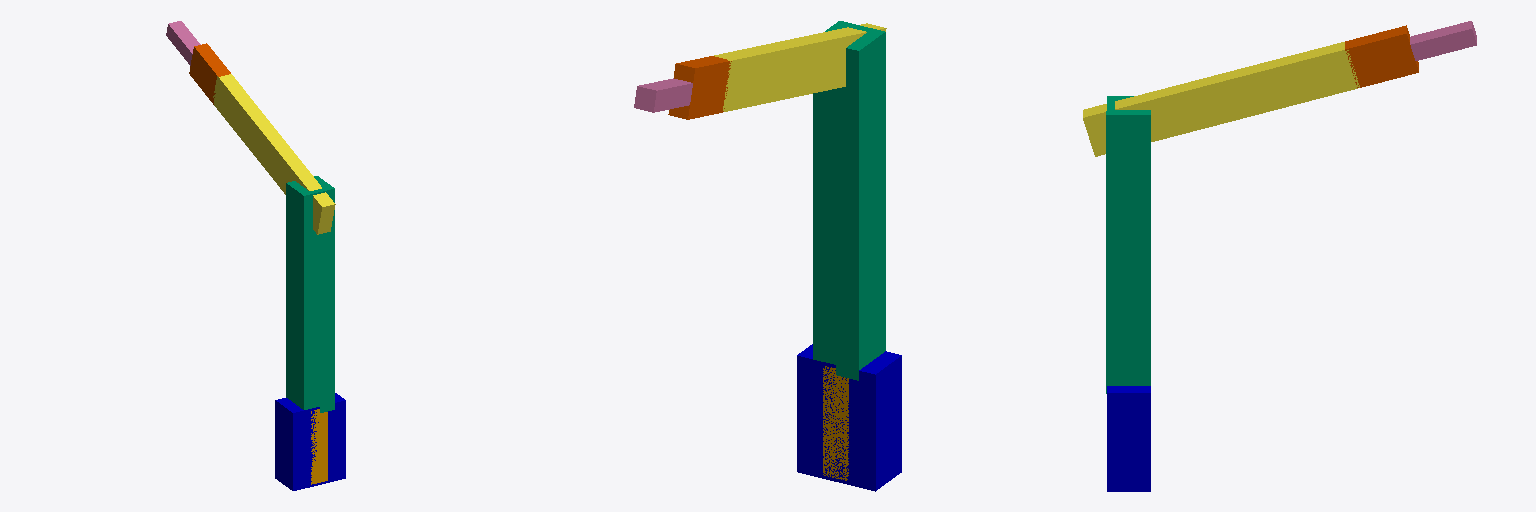
URDF robot description (multipleshapes):
<?xml version="1.0"?>
<robot name="multipleshapes">

  <link name="bl">
    <visual>
      <geometry>
        <box size ="0.04 0.07 0.16"/>
        <origin rpy ="0 0 0" xyz = "0 0 0"/>
      </geometry>
    </visual>
  </link>

  <link name = "base_link">
   <visual>
    <geometry>
     <box size ="0.12 0.07 0.17"/>
    </geometry>
    <origin rpy ="0 0 0" xyz = "0 0 0"/>
     <material name="blue">
        <color rgba="0 0 0.8 1"/>
     </material>
     </visual>
  </link>


  <joint name="joint0" type="continuous">
   <axis xyz = "0 0 1"/>
    <limit effort="1000.0" lower="-3" upper="3" velocity="0.5"/>
   <origin rpy ="0 0 0" xyz = "0 0 0"/>
   <parent link = "base_link"/>
   <child link = "bl"/>
  </joint>

  <link name="link1">
    <visual>
      <geometry>
	<box size="0.07 0.07 0.48"/>
     <!--   <box size="0.07 0.07 0.31"/>    -.2-->
      </geometry>
	<origin rpy="0 0 1.57" xyz="0 0.0 0.22"/>
    </visual>
  </link>

  <joint name="joint1" type="revolute">
    <axis xyz = "1 0 0"/>
    <limit effort="1000.0" lower="-1.727" upper="1.57" velocity="0.25"/>
    <origin rpy ="0.0 0. 0" xyz ="0 0 0.09"/>
    <parent link="bl"/>
    <child link="link1"/>
  </joint>

  <link name = "link2">
   <visual>
     <geometry>
       <box size = "0.03 0.43 0.07"/>
     </geometry>
	<origin rpy= "0 0 0" xyz="0 0.15 0"/>
   </visual>
  </link>

<link name="link_virtual">
<origin rpy= "0 0 0" xyz="0 0.15 0"/>
</link>

  <joint name ="joint2" type="revolute">
   <axis xyz = "1 0 0 "/>
    <limit effort="1000.0" lower="-2.6" upper="2.6" velocity="0.25"/>
   <origin rpy ="0.28 0 0" xyz = "0 0.0 0.43"/>
   <parent link ="link1"/>
   <child link = "link_virtual"/>
  </joint>

<joint name ="joint3" type="revolute">
   <axis xyz = "0 1 0 "/>
    <limit effort="1000.0" lower="-3.61" upper="3.61" velocity="0.25"/>
   <origin rpy ="0 0 0" xyz = "0 0.0 0.0"/>
   <parent link ="link_virtual"/>
   <child link = "link2"/>
  </joint>

  <link name = "link3">
   <visual>
     <geometry>
       <box size = "0.03 0.1 0.07"/>
     </geometry>
	<origin rpy= "0 0 0" xyz="0 0.03 0.0"/>
   </visual>
    <!--collision>
     <geometry>
       <box size = "0.03 0.1 0.07"/>
     </geometry>
	<origin rpy= "0 0 0" xyz="0 0.03 0.0"/>
    </collision-->
  </link>

  <joint name ="joint4" type="revolute">
   <axis xyz = "1 0 0 "/>
    <limit effort="1000.0" lower="-1.64" upper="1.64" velocity="0.25"/>
   <origin rpy ="0 0 0" xyz = "0 0.38 0.0"/>
   <parent link ="link2"/>
   <child link = "link3"/>
  </joint>

  <link name = "link4">
   <visual>
     <geometry>
       <box size = "0.03 0.1 0.03"/>
     </geometry>
	<origin rpy= "0 0 0" xyz="0 0.03 0.0"/>
   </visual>
    <!--collision>
     <geometry>
       <box size = "0.03 0.1 0.03"/>
     </geometry>
	<origin rpy= "0 0 0" xyz="0 0.03 0.0"/>
    </collision-->
  </link>

  <joint name ="joint5" type="revolute">
   <axis xyz = "0 1 0 "/>
    <limit effort="1000.0" lower="-2.44" upper="2.44" velocity="0.25"/>
   <origin rpy ="0 0 0" xyz = "0 0.1 0.0"/>
   <parent link ="link3"/>
   <child link = "link4"/>
  </joint>



  <!--link name = "gripper_link">
   <visual>
     <geometry>
       <box size = "0.03 0.06 0.03"/>
     </geometry>
	<origin rpy= "0 0 0" xyz="0 0.05 0.0"/>
   </visual>
  </link>

  <joint name ="gripper" type="revolute">
   <axis xyz = "0 0 1 "/>
    <limit effort="1000.0" lower="-2.44" upper="2.44" velocity="0.25"/>
   <origin rpy ="0 0 0" xyz = "0 0.05 0.0"/>
   <parent link ="link4"/>
   <child link = "gripper_link"/>
  </joint-->







<!--link name="kinect_depth_HASHMARK_0">
<origin rpy= "0 0 0" xyz="0 0 0"/>
</link>

<joint name="kinect_joint#0" type="fixed">
    <parent link="link0"/>
    <child link="kinect_depth_HASHMARK_0"/>
    <origin rpy="1.57 0 3.14" xyz="-0.0143 0.0302 0.7448"/>
    <axis xyz="0 0 0" />
</joint-->


<link name="camera_link">
<origin rpy= "0 0 0" xyz="0 0 0"/>
</link>
<joint name="kinect_joint1" type="fixed">
    <parent link="base_link"/>
    <child link="camera_link"/>
    <origin rpy="1.57079632679 0 3.14159265359" xyz="0.10 -0.1 0.48"/>
    <axis xyz="0 0 0" />
</joint>


    <!--origin rpy="0 0 0" xyz="-0.035 0.3 0.02"/-->





<!--link name="kinect_depth_HASHMARK_0">
<origin rpy= "0 0 0" xyz="0 0.1 0"/>

</link>





<joint name="kinect_joint#0" type="fixed">
    <parent link="link4"/>
    <child link="kinect_depth_HASHMARK_0"/>
    <origin rpy="1.75 0 3.14" xyz="0.0 0.01 0"/>
    <axis xyz="0 0 0" />
    <limit effort="1000.0" lower="-3" upper="3" velocity="0.5"/>1.57 0 3.14159
</joint>-->

<Manipulator name="arm_kin_chain">
   <!-- tip -->
   <effector>link4</effector>
   <!-- origin -->
   <base>base_link</base>

   <!-- no additional info is required since it is a leg -->
</Manipulator>

</robot>

--- Facts derived from the render (not from the file) ---
Views: 3 orthographic renders of the robot side by side, from view 1: azimuth 30°, elevation 25°; view 2: azimuth 150°, elevation 25°; view 3: azimuth 270°, elevation 25°.
Model multipleshapes with 8 links and 7 joints (5 revolute, 1 continuous, 1 fixed), rooted at base_link, posed all joints at 0.
Visible links, largest first — view 1: link1, link2, base_link, link3, bl, link4; view 2: link1, base_link, link2, link3, bl, link4; view 3: link1, link2, base_link, link3, link4.
Boxes of the visible links, box(x1,y1,x2,y2) form: link1: box(286, 176, 334, 412); link2: box(213, 74, 335, 234); base_link: box(275, 393, 345, 490); link3: box(189, 43, 230, 104); bl: box(311, 409, 327, 484); link4: box(166, 21, 200, 65); link1: box(813, 21, 885, 380); base_link: box(797, 344, 901, 491); link2: box(714, 23, 886, 111); link3: box(668, 56, 731, 119); bl: box(823, 366, 848, 480); link4: box(634, 78, 692, 112); link1: box(1106, 96, 1150, 393); link2: box(1083, 42, 1359, 156); base_link: box(1107, 386, 1150, 491); link3: box(1345, 25, 1418, 87); link4: box(1410, 21, 1476, 60).
Bounding box of the posed robot: 0.12 × 0.6145 × 0.7742 m (x, y, z).
Geometry: primitives only (box / cylinder / sphere), no mesh files.